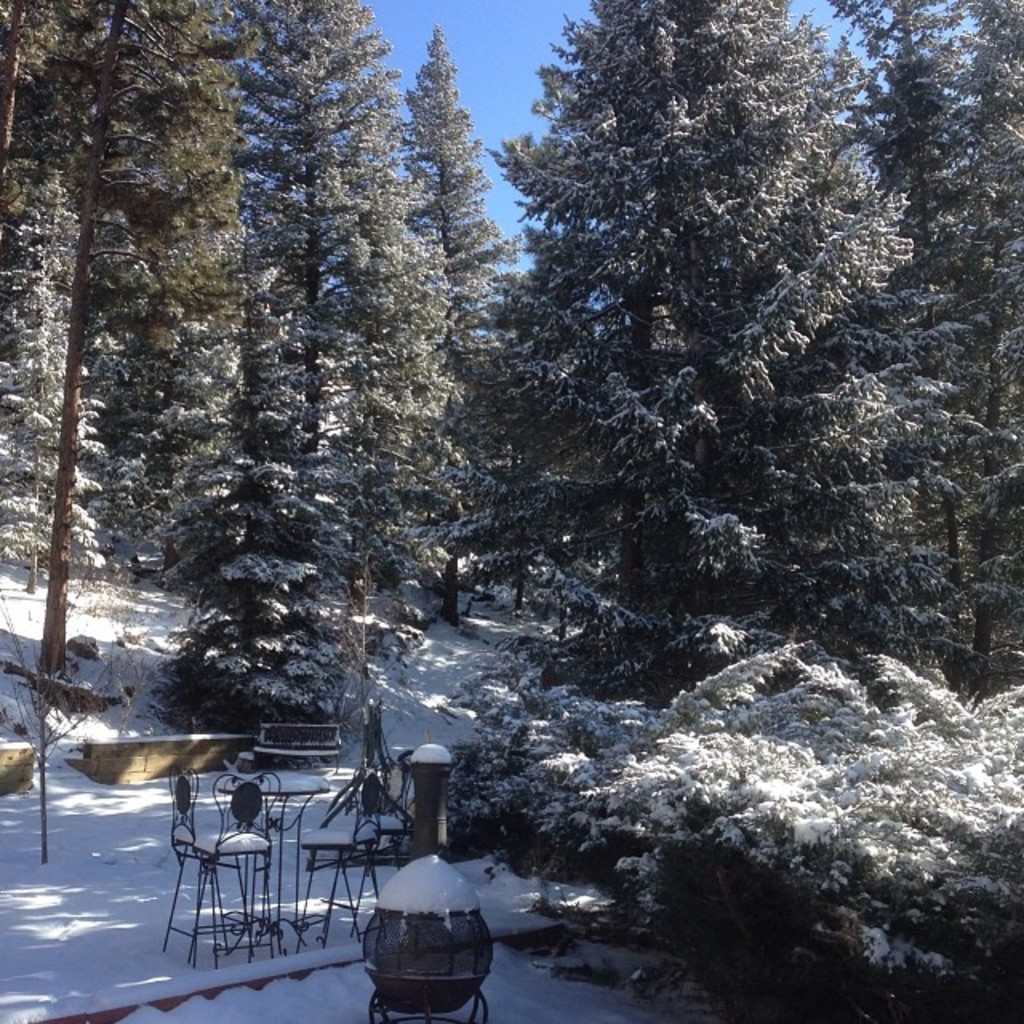Tree: (441, 0, 1022, 679), (0, 0, 433, 718)
